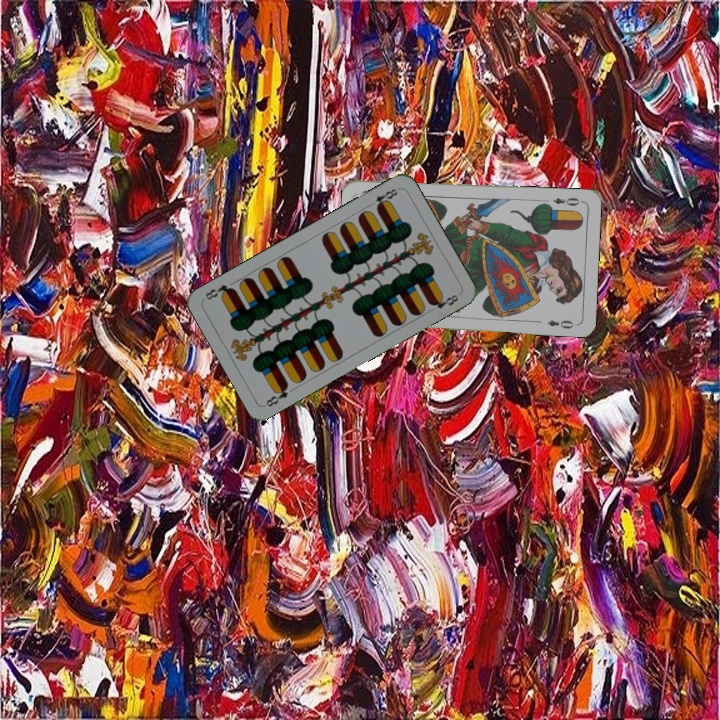E8: (364, 184, 402, 212), (261, 380, 291, 409)
EO: (549, 193, 585, 209)
